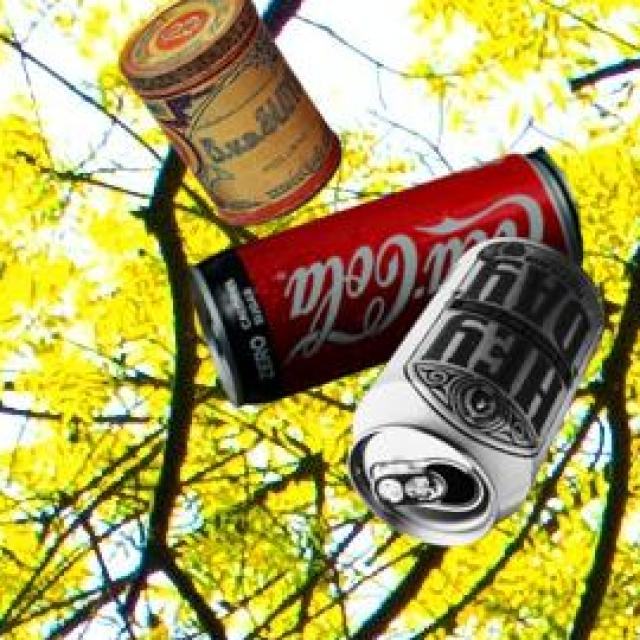logam: (185, 143, 580, 402), (345, 236, 601, 542), (117, 0, 338, 222)
